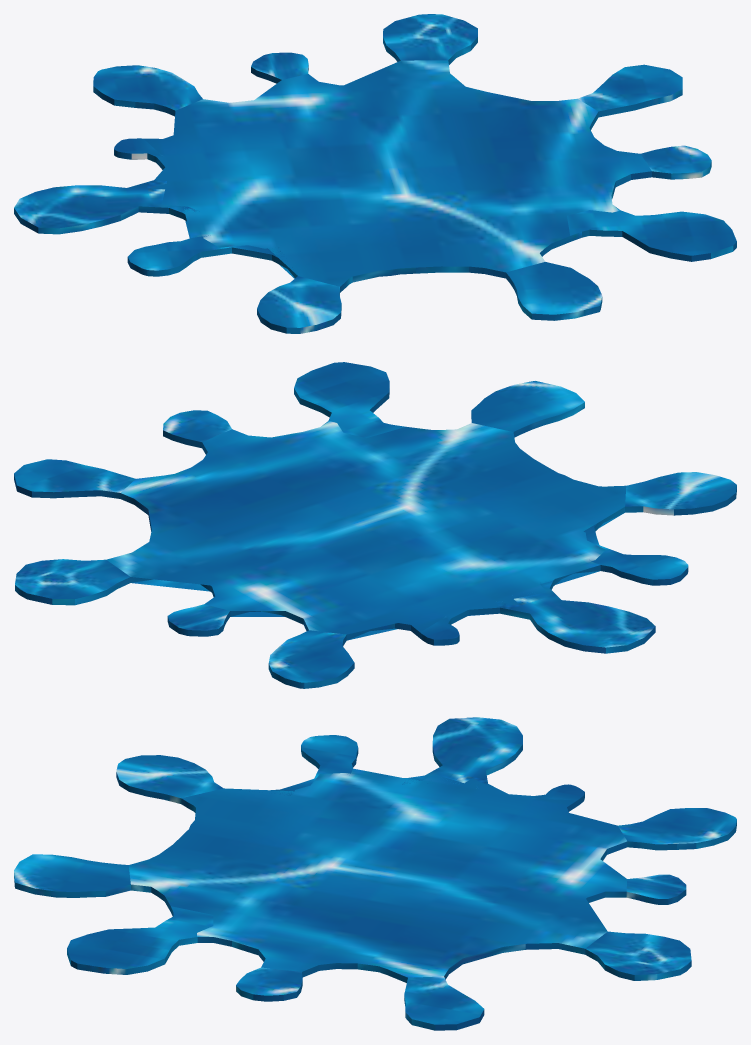
File: poça dagua 2.fbx
3 renders of one model, top to bottom at view 1: azimuth 30°, elevation 25°; view 2: azimuth 150°, elevation 25°; view 3: azimuth 270°, elevation 25°, orthographic.
Parts seen in each view (by area): view 1: Plane; view 2: Plane; view 3: Plane.
Part boxes in pixels (<box>): Plane: <box>14,14,736,333</box>; Plane: <box>14,362,736,688</box>; Plane: <box>14,717,736,1030</box>.
Size of the model in its own units: 433 by 4.73 by 431.
1 material, 1 textured.
